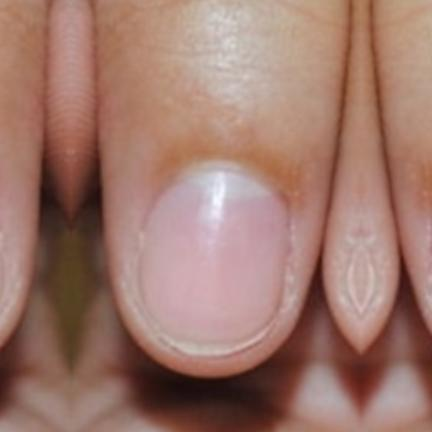Nail: (137, 161, 289, 357), (0, 249, 3, 303)
